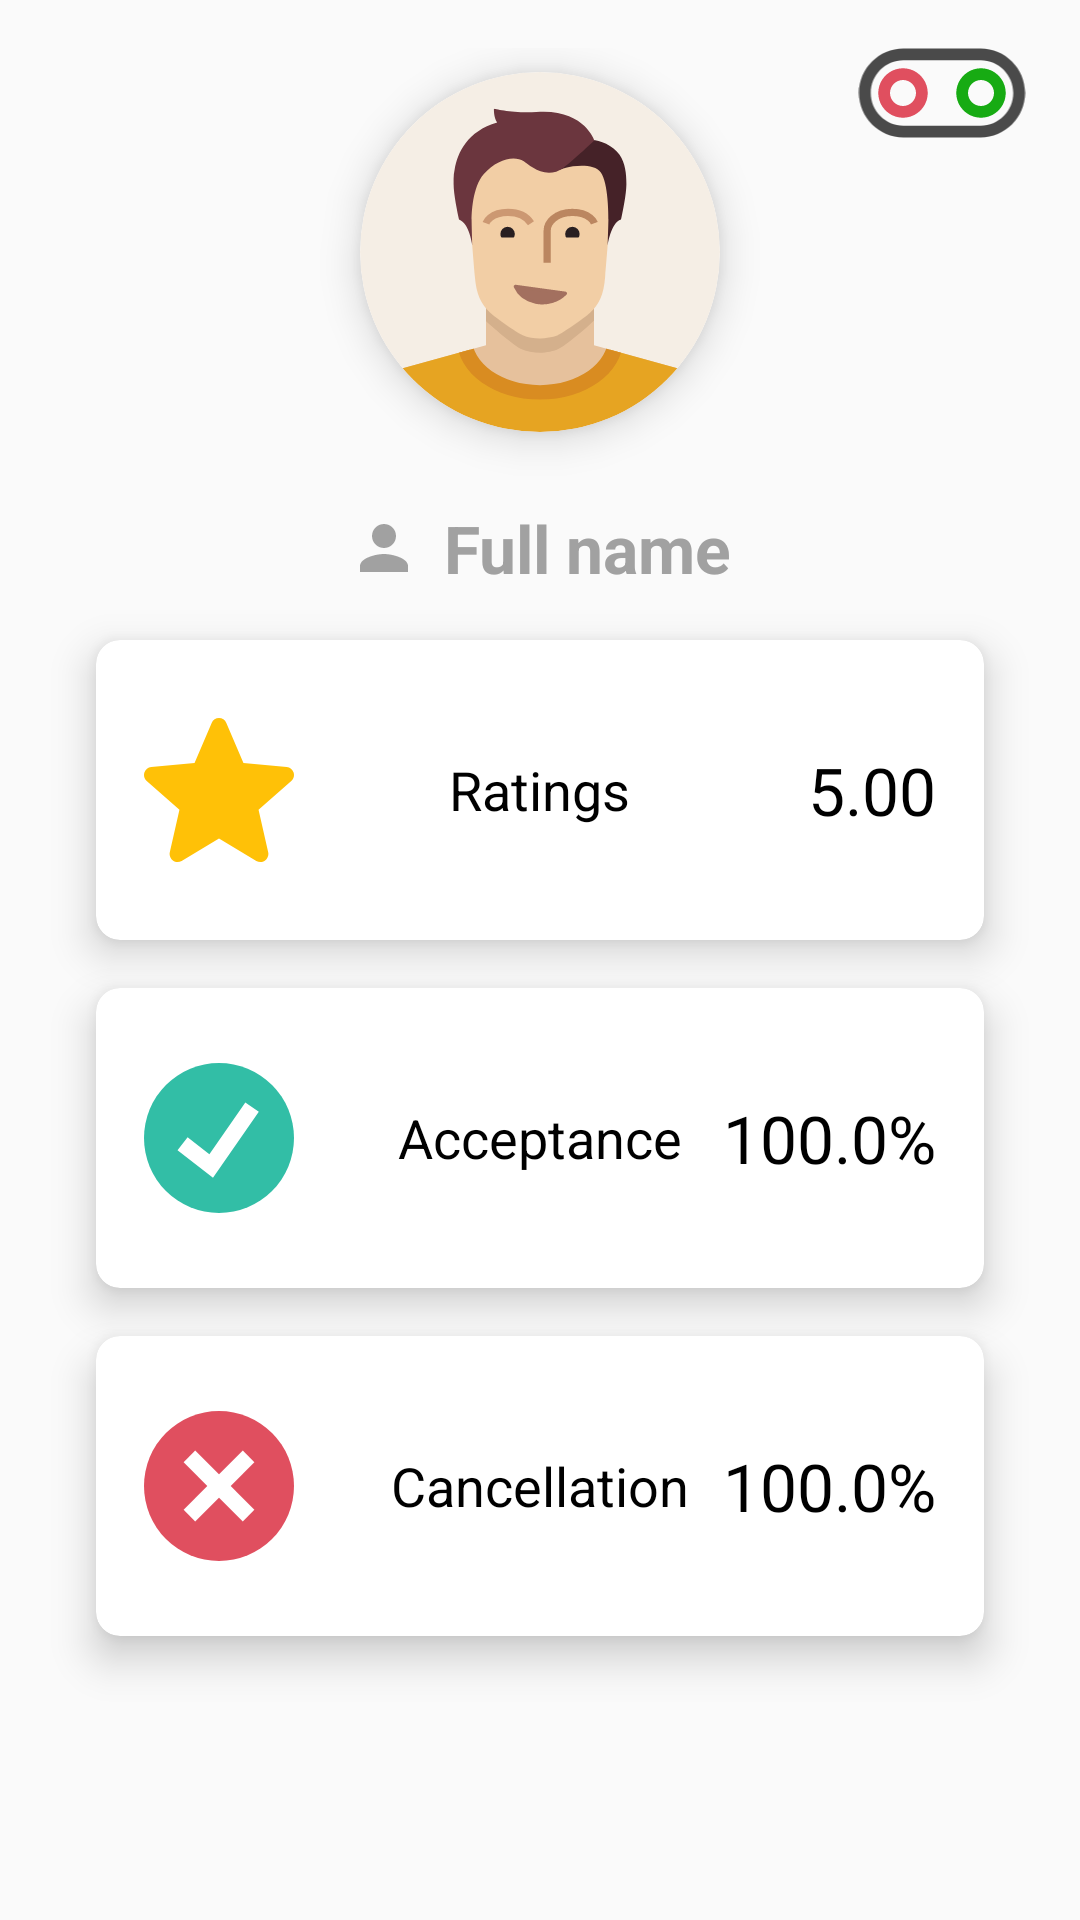

Icons on this 1080 x 1920 Android screen, each with its box as (x1, y1, x2, y2):
person: (360, 524, 408, 572)
ratings: (144, 718, 294, 862)
